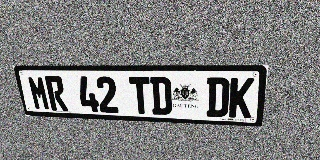2: (95, 76, 119, 113)
4: (76, 76, 100, 112)
D: (206, 77, 230, 117), (150, 77, 172, 115)
K: (228, 77, 255, 118)
M: (27, 76, 51, 110)
R: (44, 76, 68, 111)
T: (129, 77, 151, 114)
